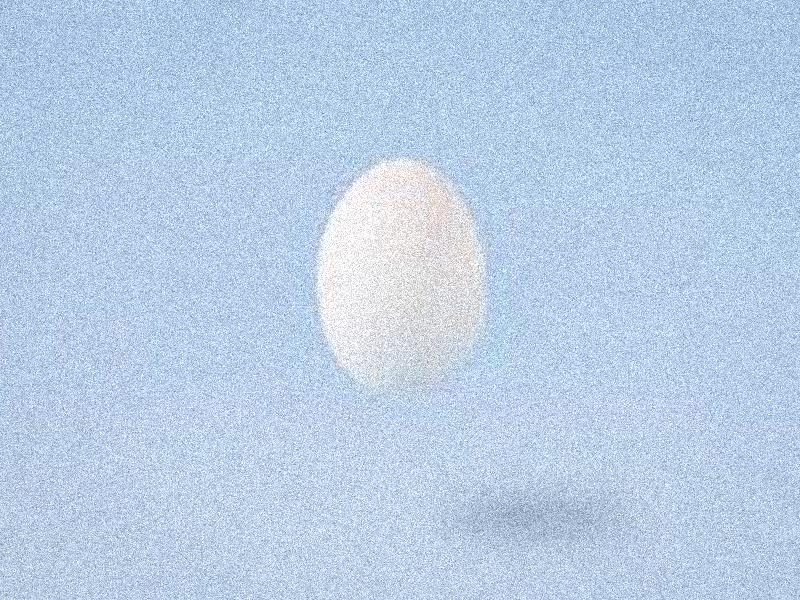Eggs: (316, 157, 488, 397)
